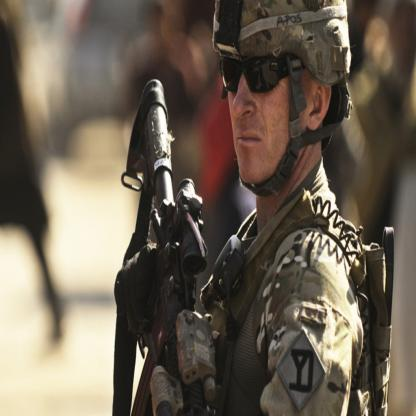Helmet: (221, 2, 354, 183)
